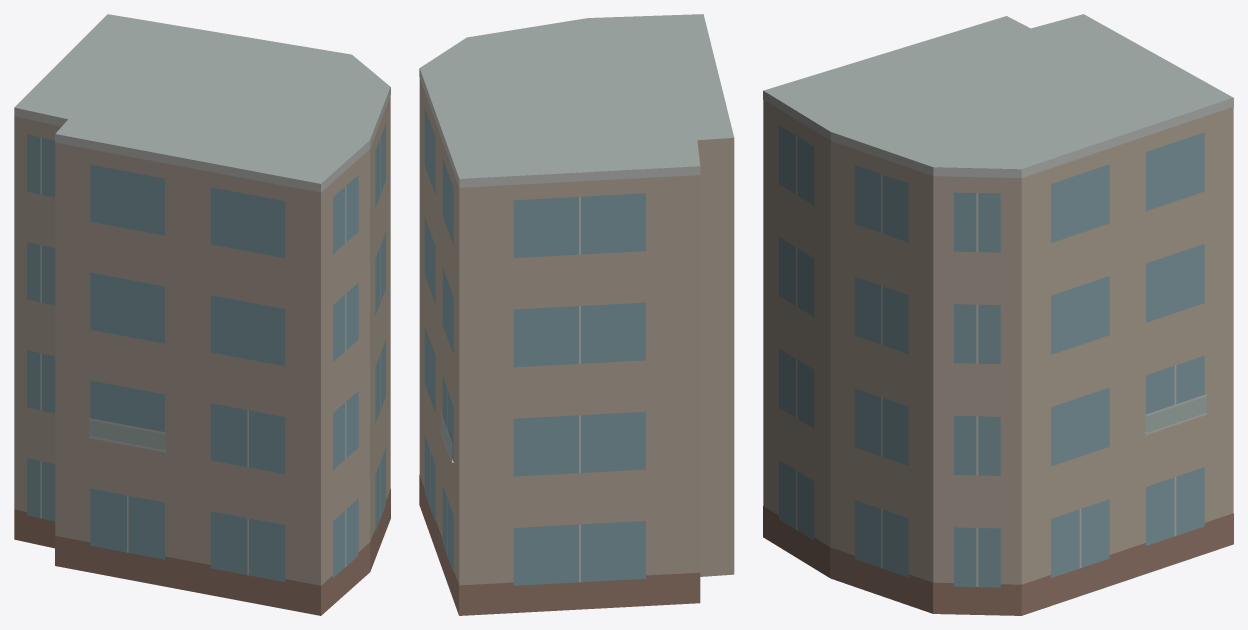
The model's file is survey-upis-32986399.glb.
The picture shows the model from 3 angles, left to right: view 1: azimuth 30°, elevation 25°; view 2: azimuth 150°, elevation 25°; view 3: azimuth 270°, elevation 25°; orthographic projection. The views are drawn at different scales.
Visible parts, largest first — view 1: survey-upis-32986399.tmp; view 2: survey-upis-32986399.tmp; view 3: survey-upis-32986399.tmp.
Boxes of the visible parts, box(x1,y1,x2,y2) form: survey-upis-32986399.tmp: box(14, 14, 390, 615); survey-upis-32986399.tmp: box(419, 14, 734, 615); survey-upis-32986399.tmp: box(763, 14, 1233, 615).
Size of the model in its own units: 9.1 by 12.2 by 11.65.
